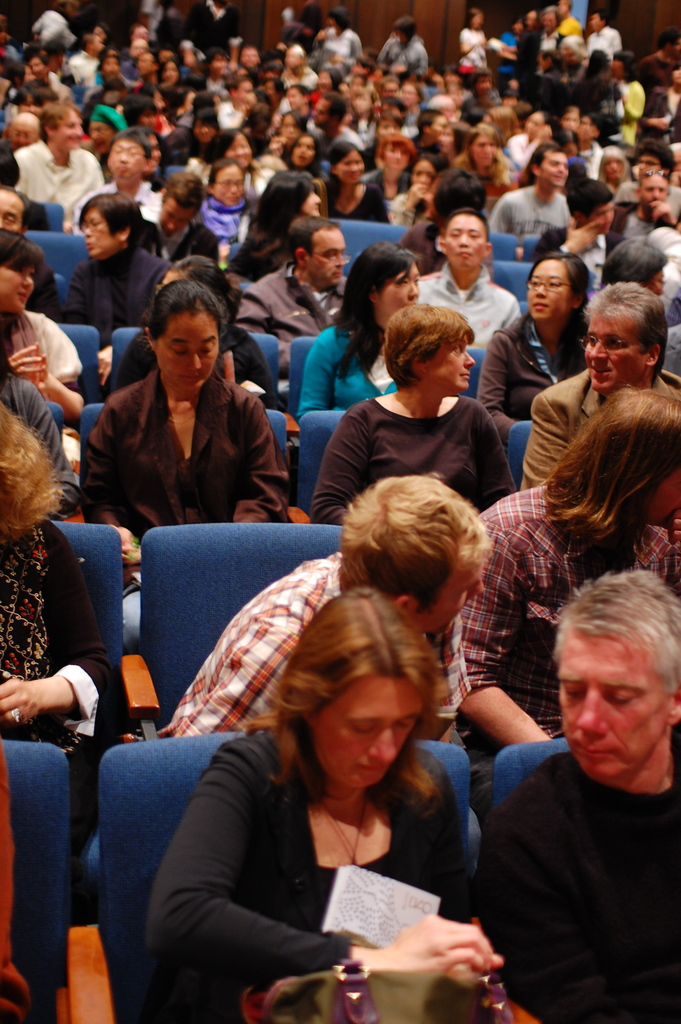Human_hand: (382, 913, 506, 980), (7, 661, 95, 751), (5, 344, 44, 384), (566, 216, 604, 253), (31, 340, 51, 391), (113, 524, 138, 564), (98, 344, 117, 389), (404, 181, 431, 211), (648, 200, 678, 227)
